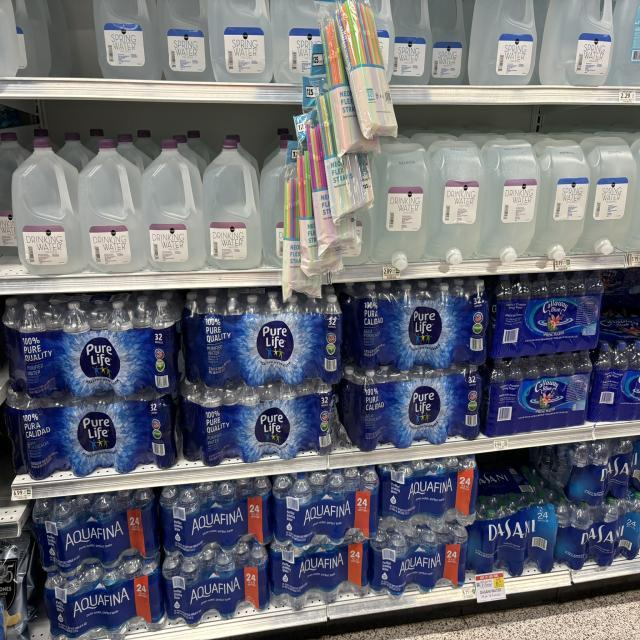Water: (2, 295, 180, 398), (5, 388, 178, 480), (182, 290, 342, 387), (180, 378, 338, 467), (340, 278, 489, 370), (339, 363, 481, 452), (44, 548, 165, 638), (32, 488, 160, 573), (11, 138, 86, 275), (466, 468, 558, 577), (489, 272, 604, 358), (481, 350, 592, 437), (162, 540, 270, 627), (78, 140, 148, 273), (160, 477, 272, 557), (141, 140, 206, 272), (272, 467, 379, 547), (269, 528, 369, 610), (475, 138, 540, 262), (526, 138, 590, 258), (202, 140, 261, 270), (424, 140, 485, 265), (378, 455, 479, 530), (370, 143, 430, 268), (369, 523, 468, 597), (574, 137, 636, 255), (555, 493, 640, 570), (539, 0, 614, 87), (468, 0, 536, 85), (549, 437, 632, 505), (94, 0, 162, 80), (260, 140, 298, 268), (158, 0, 215, 82), (270, 0, 321, 84), (588, 340, 640, 422), (390, 0, 432, 85), (429, 0, 466, 85), (12, 0, 51, 76)
